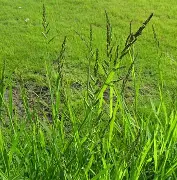weed: (0, 0, 176, 179), (0, 11, 176, 179), (0, 0, 176, 98), (0, 0, 176, 87)
